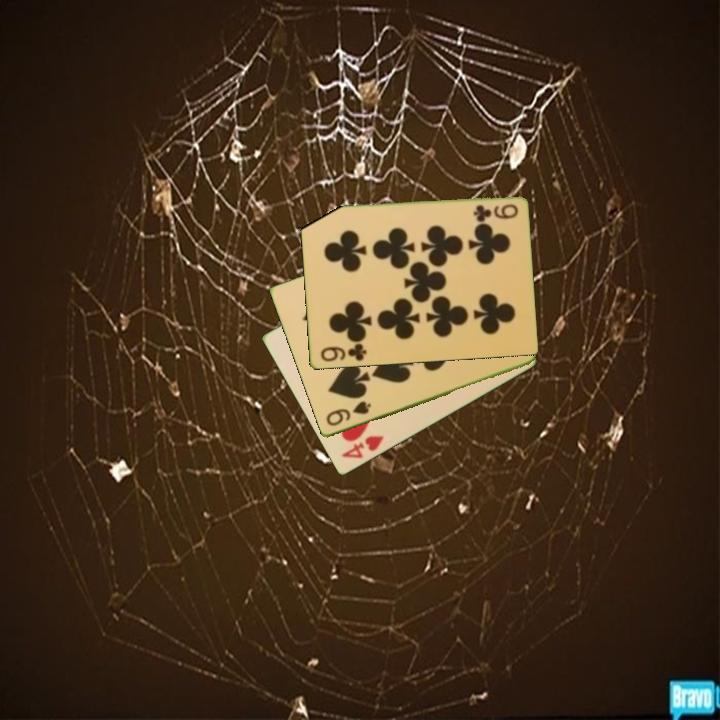4h: (338, 432, 386, 462)
9c: (317, 340, 369, 365), (470, 201, 521, 223)
9s: (322, 398, 374, 429)
